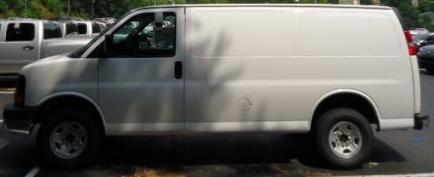backlight: (394, 9, 420, 55)
headlight: (10, 69, 37, 112)
side_glass: (94, 10, 179, 60)
